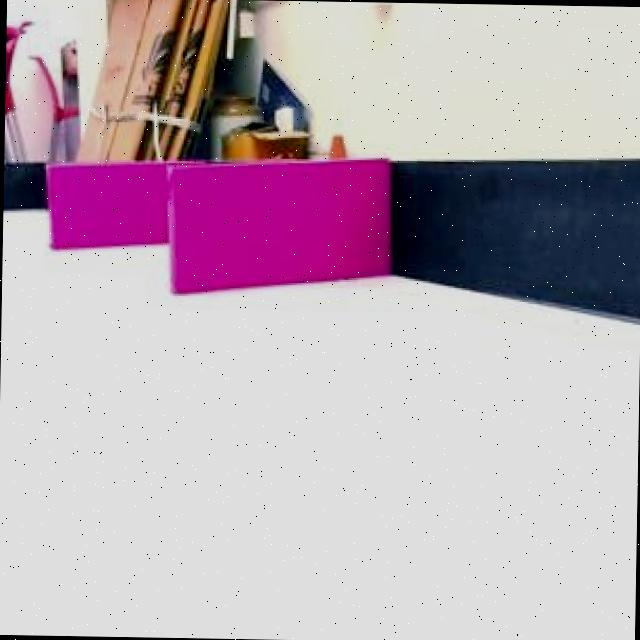xparking: (169, 154, 390, 288), (46, 156, 168, 258)
